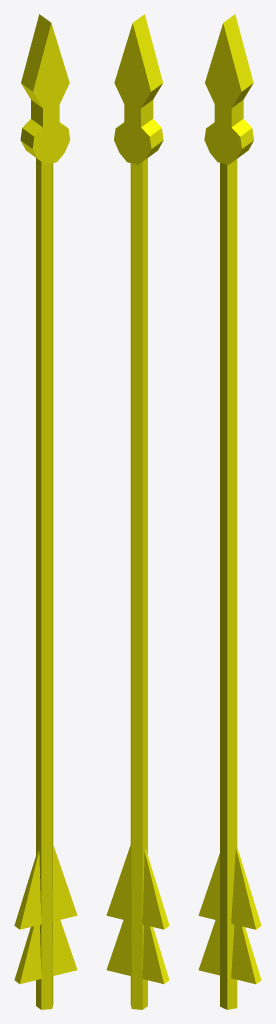
The model's file is _arrow_c_20.glb.
3 views of the same model, side by side, from view 1: azimuth 30°, elevation 25°; view 2: azimuth 150°, elevation 25°; view 3: azimuth 330°, elevation 25° (orthographic).
Parts seen in each view (by area): view 1: arrow_c_20; view 2: arrow_c_20; view 3: arrow_c_20.
Part boxes in pixels (bbox=[...]): arrow_c_20: bbox=[14, 14, 77, 1009]; arrow_c_20: bbox=[106, 14, 169, 1009]; arrow_c_20: bbox=[198, 14, 261, 1009].
Bounding box in the file's own units: 1243 × 20325 × 452.
